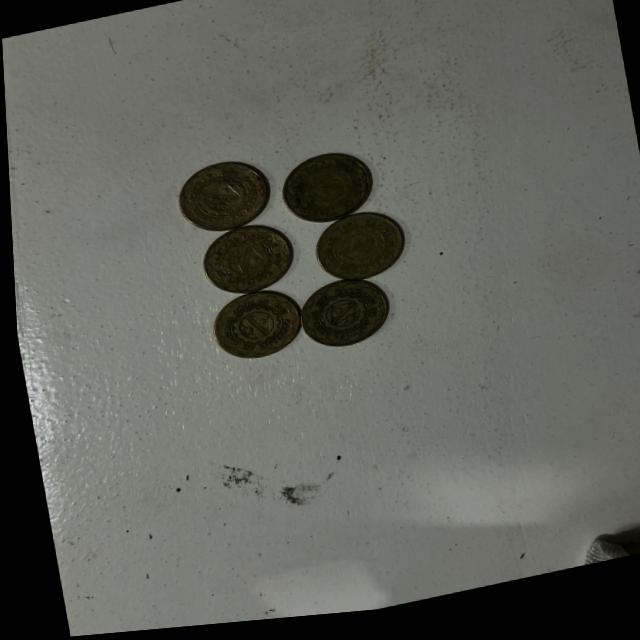5_Old_Back: (270, 142, 384, 236), (189, 219, 298, 305), (171, 151, 273, 241), (196, 287, 306, 370), (308, 214, 417, 291), (298, 278, 391, 351)
